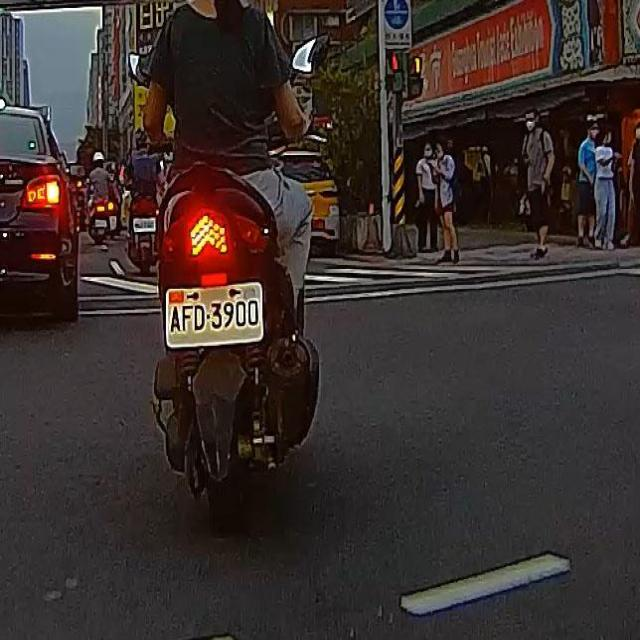license-plate: (166, 280, 264, 344), (134, 218, 157, 232)
